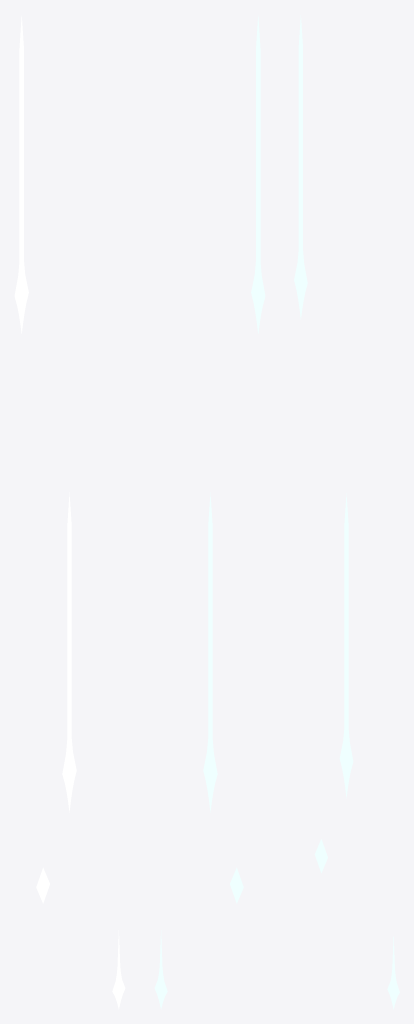
Rendered from Door_Em.fbx.
The picture shows the model from 3 angles, left to right: view 1: azimuth 30°, elevation 25°; view 2: azimuth 150°, elevation 25°; view 3: azimuth 330°, elevation 25°; orthographic projection. The views are drawn at different scales.
Visible parts, largest first — view 1: Door_em.001, Door_em, Door_em.002; view 2: Door_em.001, Door_em, Door_em.002; view 3: Door_em, Door_em.001, Door_em.002.
Part boxes in pixels (left/top/right/bottom): Door_em.001: left=62, top=492, right=76, bottom=812; Door_em: left=14, top=16, right=28, bottom=333; Door_em.002: left=112, top=930, right=125, bottom=1009; Door_em.001: left=203, top=492, right=217, bottom=812; Door_em: left=251, top=16, right=265, bottom=333; Door_em.002: left=154, top=930, right=167, bottom=1009; Door_em: left=294, top=15, right=307, bottom=319; Door_em.001: left=339, top=493, right=353, bottom=798; Door_em.002: left=387, top=936, right=399, bottom=1009.
Size of the model in its own units: 449 by 3944 by 0.000642.
